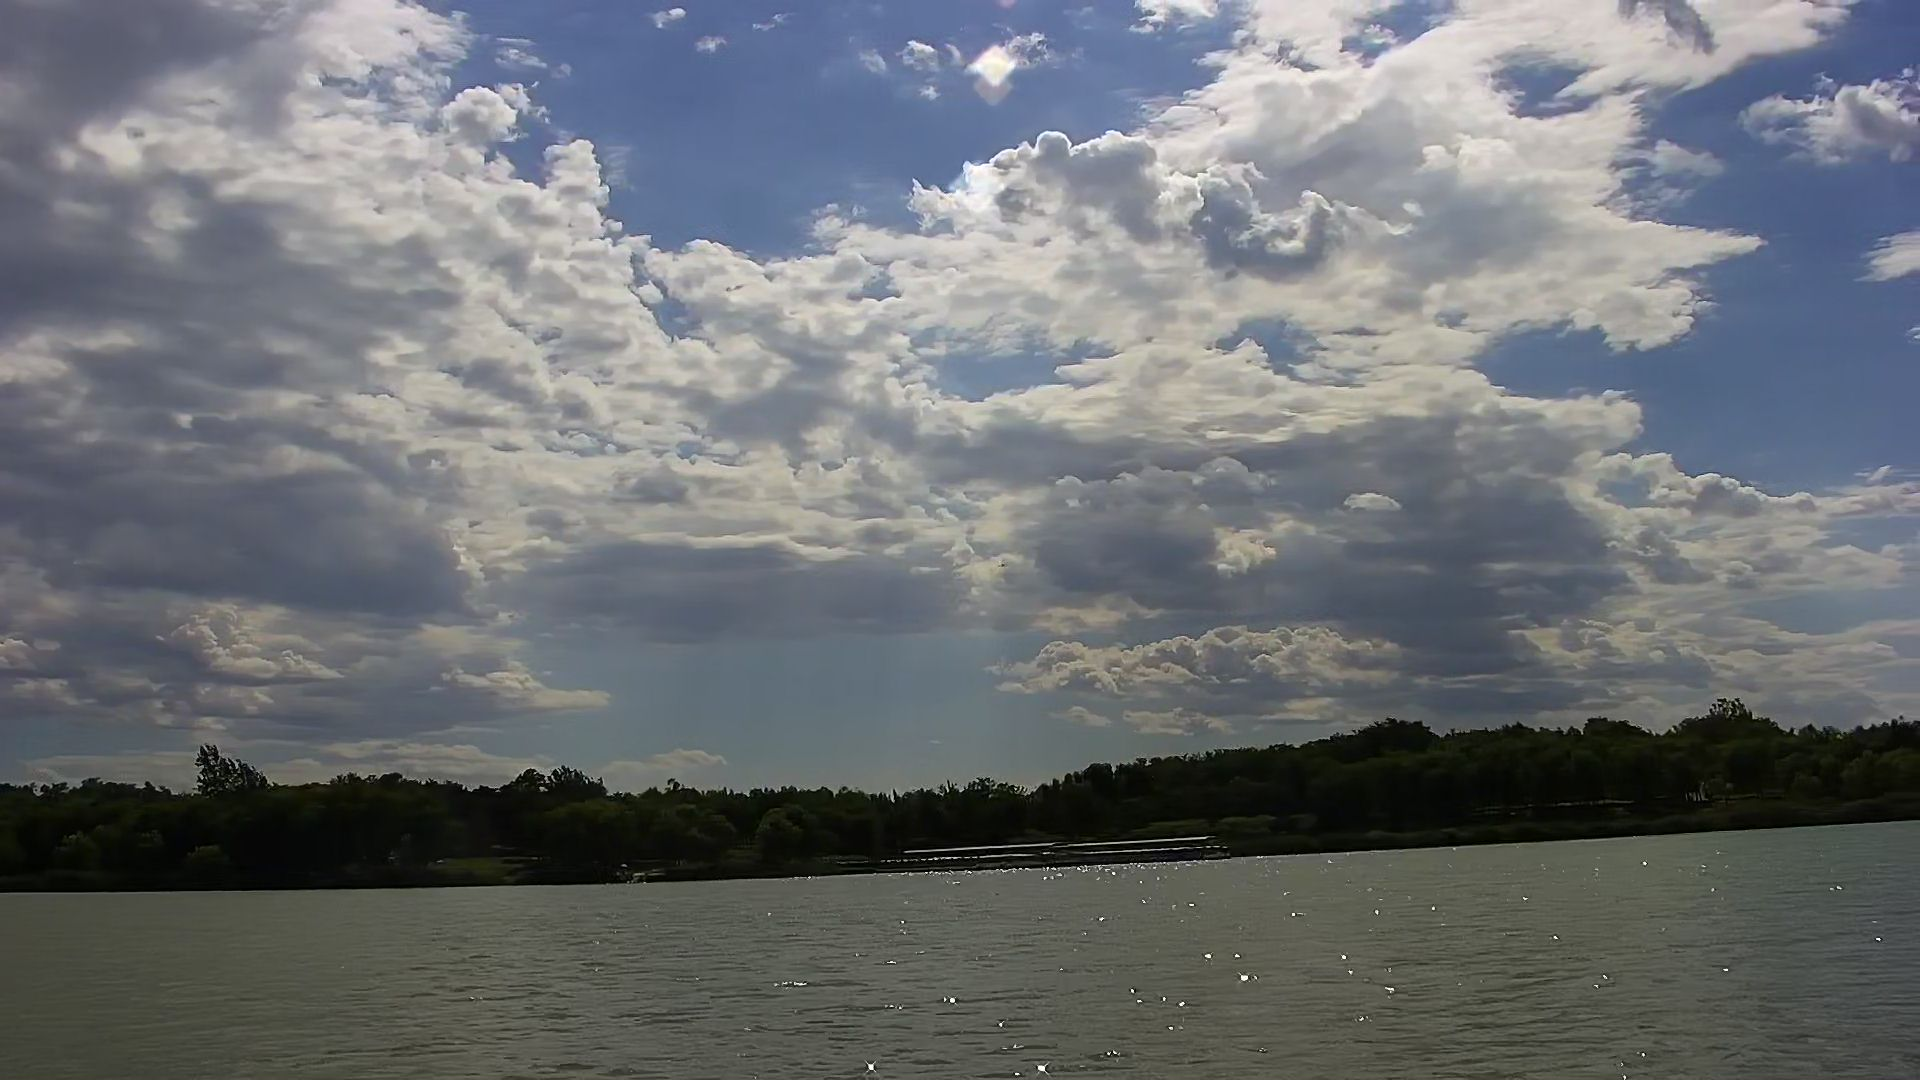harbor: (884, 829, 1236, 878)
